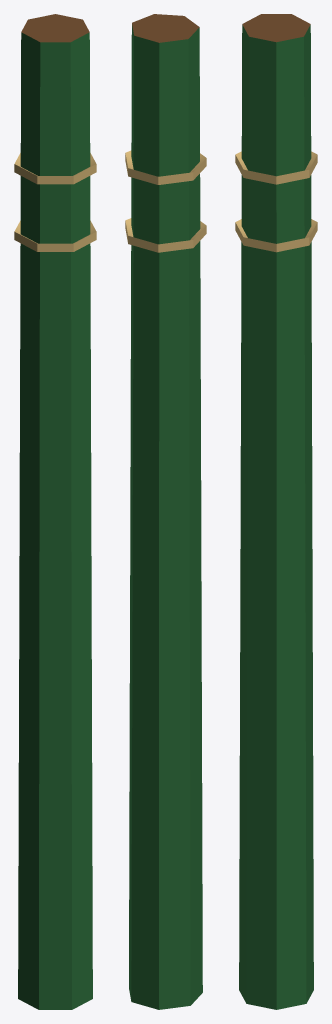
The model's file is Pilote.fbx.
The picture shows the model from 3 angles, left to right: view 1: azimuth 90°, elevation 25°; view 2: azimuth 210°, elevation 25°; view 3: azimuth 270°, elevation 25°; orthographic projection.
Visible parts, largest first — view 1: Pilote; view 2: Pilote; view 3: Pilote.
Boxes of the visible parts, box(x1,y1,x2,y2) form: Pilote: box(14, 14, 96, 1009); Pilote: box(125, 14, 206, 1009); Pilote: box(235, 14, 317, 1009).
Size of the model in its own units: 0.7509 by 10 by 0.7702.
1 material, 1 textured.
